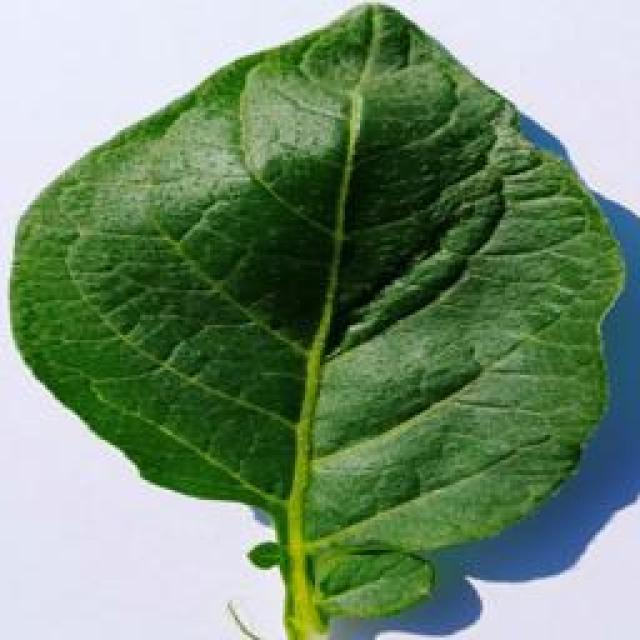Potato_Healthy: (1, 14, 631, 637)
